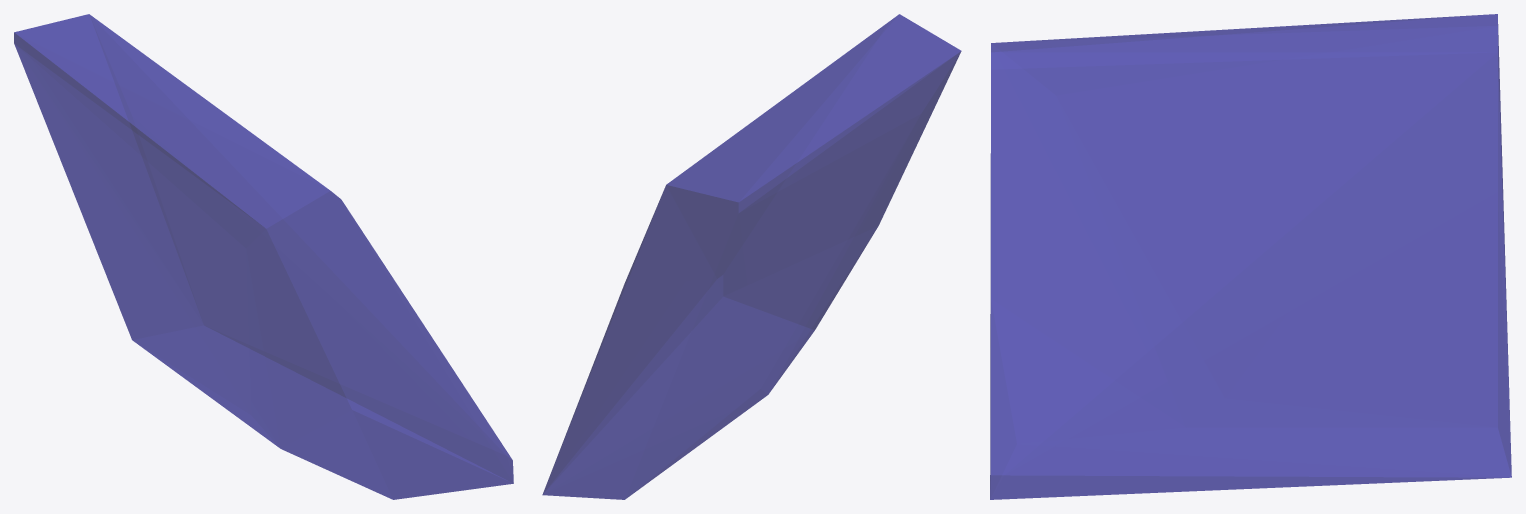
3 renders of one model, left to right at view 1: azimuth 30°, elevation 25°; view 2: azimuth 150°, elevation 25°; view 3: azimuth 270°, elevation 25°, orthographic. The views are drawn at different scales.
Visible parts, largest first — view 1: Shape_IndexedFaceSet.013_Shape_IndexedFaceSet.4359; view 2: Shape_IndexedFaceSet.013_Shape_IndexedFaceSet.4359; view 3: Shape_IndexedFaceSet.013_Shape_IndexedFaceSet.4359.
Part boxes in pixels (x1=…): Shape_IndexedFaceSet.013_Shape_IndexedFaceSet.4359: x1=14, y1=14, x2=513, y2=499; Shape_IndexedFaceSet.013_Shape_IndexedFaceSet.4359: x1=542, y1=14, x2=961, y2=499; Shape_IndexedFaceSet.013_Shape_IndexedFaceSet.4359: x1=990, y1=14, x2=1511, y2=499.
Bounding box in the file's own units: 0.1537 × 0.197 × 0.2566.
